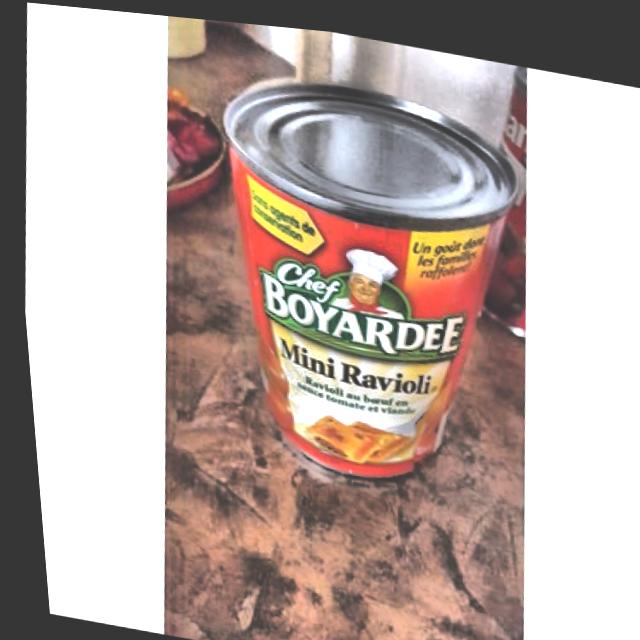Cans: (186, 41, 553, 515)
